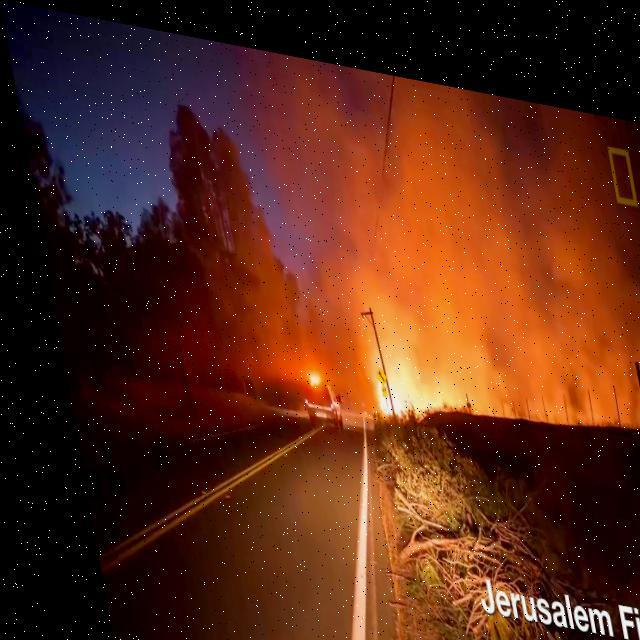Fire: (359, 362, 386, 399)
